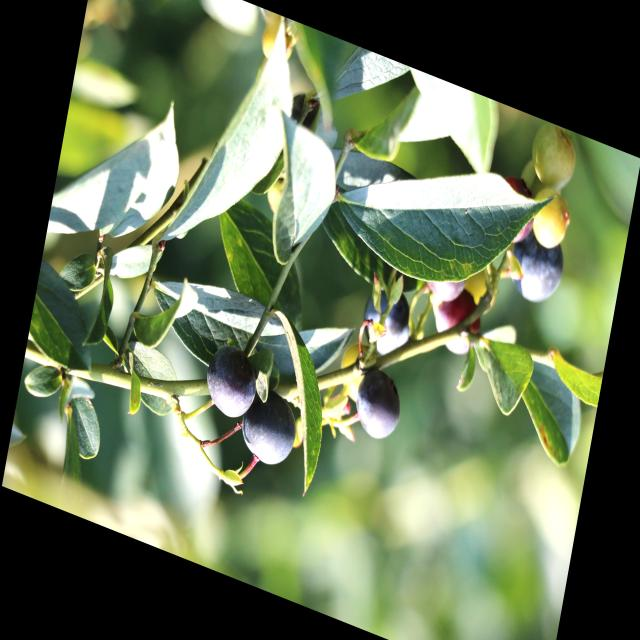blueberry: (500, 215, 572, 315), (237, 385, 306, 483), (355, 274, 421, 371), (198, 336, 265, 431), (347, 361, 409, 451)
blueberry-halfripe: (430, 284, 485, 364), (424, 256, 468, 308)
blueberry-unripe: (528, 119, 580, 194), (526, 180, 573, 257)
